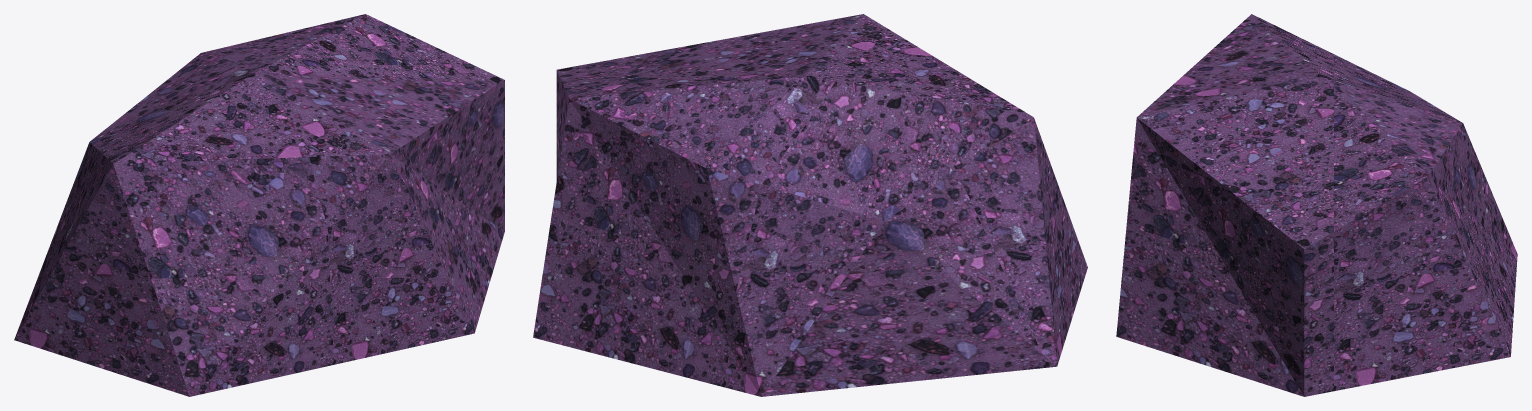
File: piedra2.fbx
3 views of the same model, side by side, from view 1: azimuth 30°, elevation 25°; view 2: azimuth 150°, elevation 25°; view 3: azimuth 270°, elevation 25° (orthographic). The views are drawn at different scales.
Parts seen in each view (by area): view 1: Group18; view 2: Group18; view 3: Group18.
Boxes of the visible parts, x1,y1,x2,y2 form: Group18: [14, 14, 504, 396]; Group18: [533, 14, 1087, 396]; Group18: [1116, 14, 1517, 396].
Size of the model in its own units: 8.26 by 4.36 by 6.16.
Materials: 1 (1 with a texture image).
